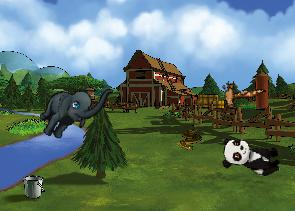eagle: (208, 66, 266, 124)
elephant: (33, 66, 114, 153)
panda: (219, 136, 283, 177)
